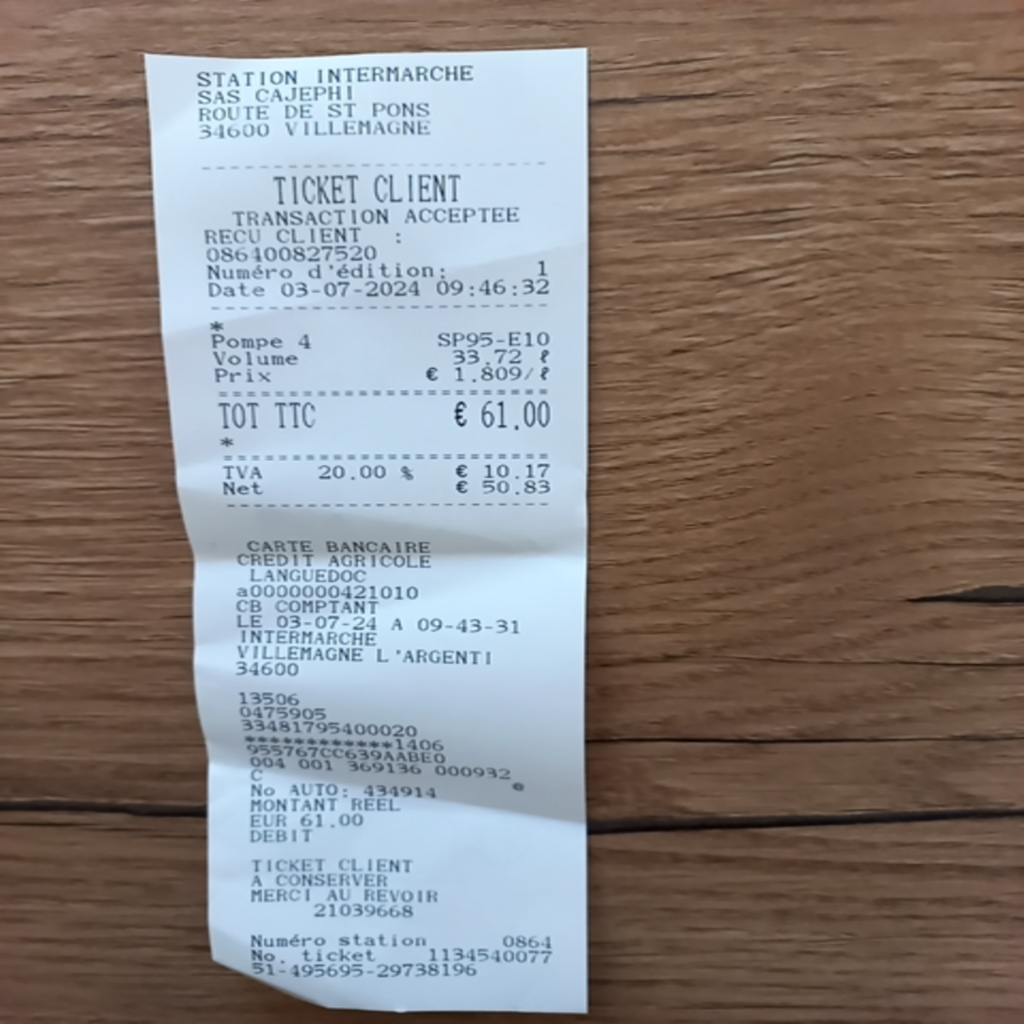recipt: (147, 50, 594, 1016)
